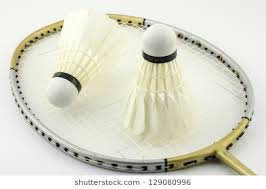shuttle: (132, 28, 192, 140), (53, 13, 123, 102)
